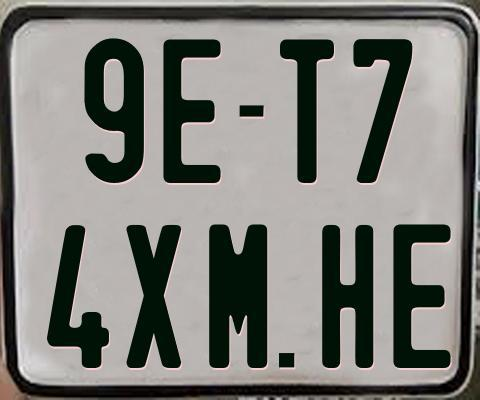4: (45, 224, 110, 368)
7: (352, 39, 413, 189)
9: (83, 35, 147, 182)
E: (161, 36, 223, 184), (392, 222, 452, 368)
H: (322, 225, 374, 368)
M: (206, 224, 270, 371)
T: (280, 36, 336, 180)
X: (126, 222, 185, 369)
